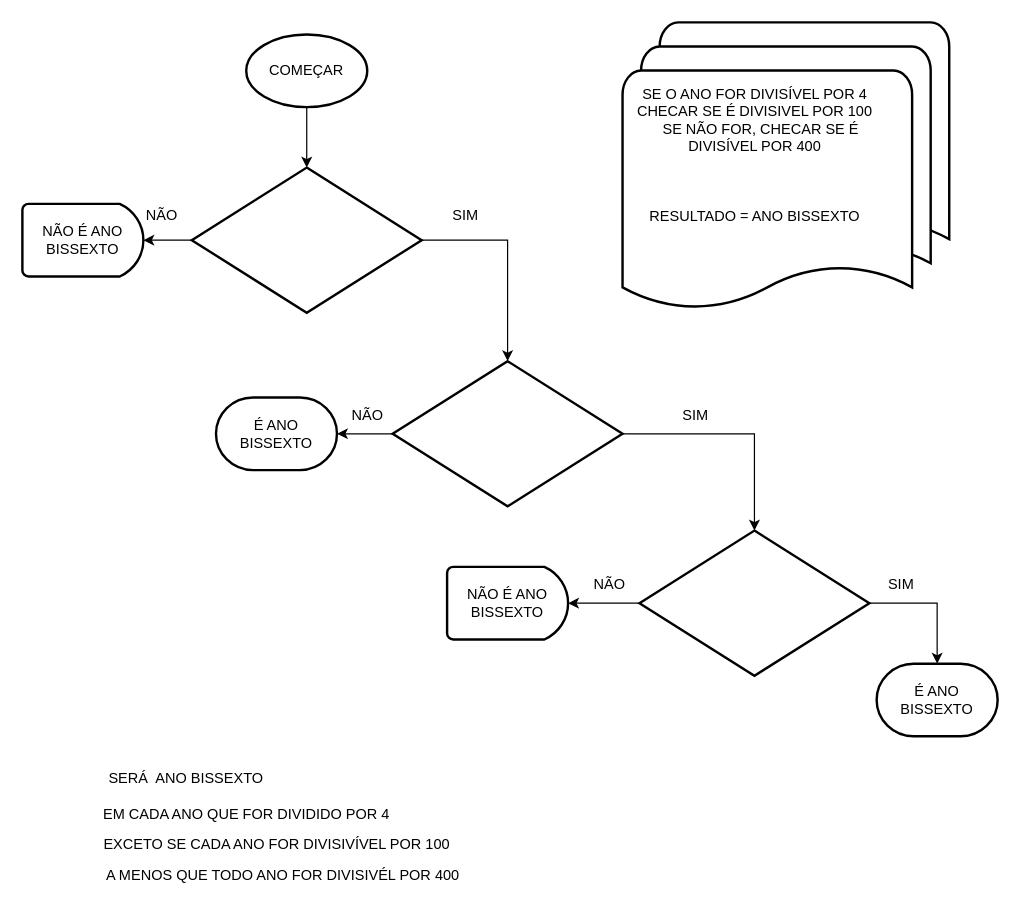
The diagram is 1019 pixels wide and 914 high, and some of its shapes have lost their labels. Each missing label, with the box of its shape:
É DIVISÍVEL POR 100?: (391, 359, 623, 507)
É DIVISÍVEL POR 400?: (638, 529, 870, 676)
É DIVISÍVEL POR 4?: (190, 166, 422, 313)
